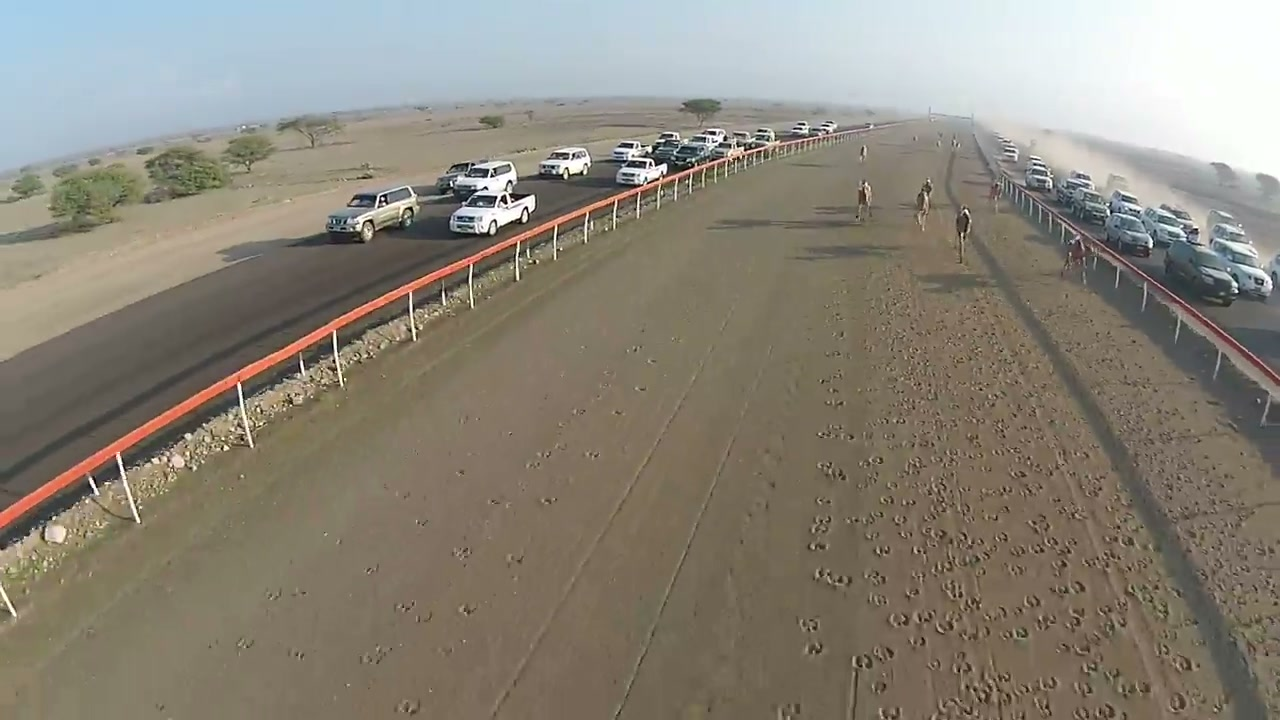animal_foot_print: (805, 255, 1223, 719), (850, 453, 1153, 718), (904, 479, 1126, 660), (806, 494, 834, 552), (807, 515, 832, 551), (807, 514, 831, 551), (813, 567, 852, 589), (817, 461, 847, 482), (816, 424, 855, 440), (359, 645, 391, 664), (810, 514, 832, 535), (776, 702, 802, 719), (871, 645, 895, 663), (396, 698, 421, 715), (888, 611, 910, 629), (798, 617, 821, 633), (804, 638, 823, 656), (853, 654, 874, 670), (820, 369, 844, 383), (453, 546, 472, 562), (505, 552, 525, 567), (394, 600, 416, 613), (807, 539, 829, 551), (861, 455, 883, 467), (236, 636, 254, 650), (824, 397, 845, 408), (582, 450, 601, 460), (289, 647, 304, 659), (824, 349, 845, 357), (539, 496, 557, 505), (815, 496, 831, 506), (526, 458, 540, 469), (829, 312, 843, 322), (825, 386, 840, 394), (832, 330, 845, 339)
